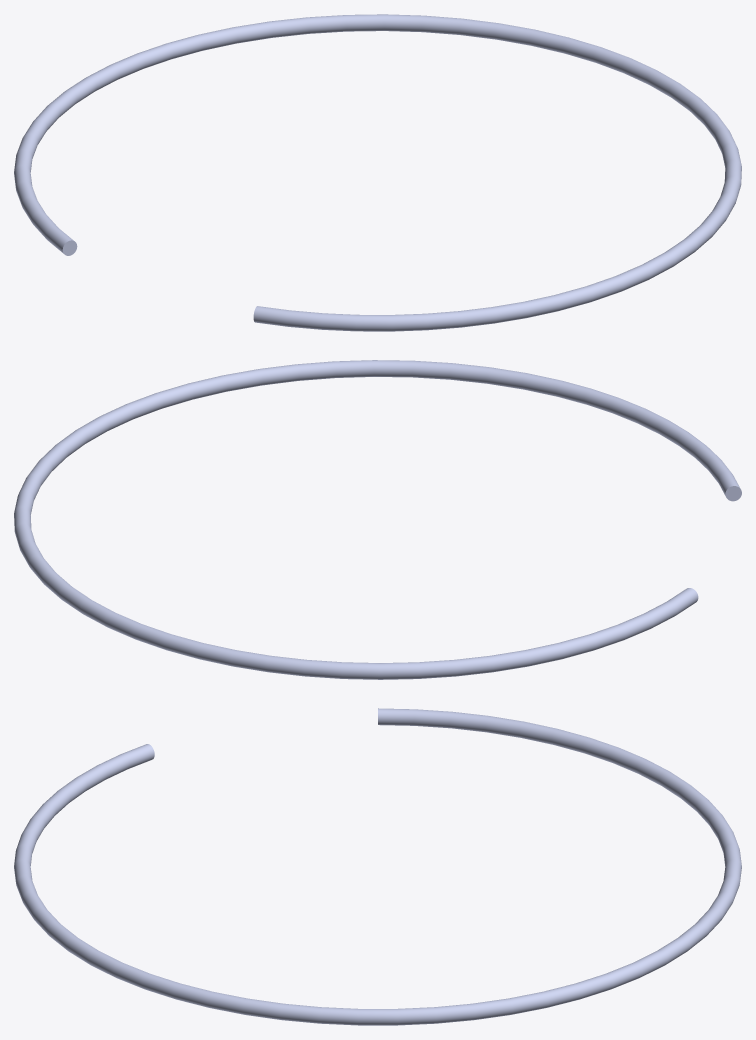
File: Mirror3_1_.obj
3 views of the same model, one above another, from view 1: azimuth 30°, elevation 25°; view 2: azimuth 150°, elevation 25°; view 3: azimuth 270°, elevation 25° (orthographic).
Parts seen in each view (by area): view 1: mesh1308, mesh1306, mesh1310, mesh1309, mesh1311, mesh1307; view 2: mesh1308, mesh1306, mesh1309, mesh1310, mesh1307, mesh1311; view 3: mesh1308, mesh1306, mesh1309, mesh1310, mesh1307.
Part boxes in pixels (<box>): mesh1308: <box>199,14,741,305</box>; mesh1306: <box>14,34,204,249</box>; mesh1310: <box>253,295,559,326</box>; mesh1309: <box>203,26,740,310</box>; mesh1311: <box>253,306,559,331</box>; mesh1307: <box>15,46,204,253</box>; mesh1308: <box>14,360,560,653</box>; mesh1306: <box>197,588,698,674</box>; mesh1309: <box>15,372,556,658</box>; mesh1310: <box>555,380,739,493</box>; mesh1307: <box>197,598,698,679</box>; mesh1311: <box>555,392,725,495</box>; mesh1308: <box>14,859,741,1020</box>; mesh1306: <box>378,708,741,865</box>; mesh1309: <box>14,868,741,1025</box>; mesh1310: <box>14,744,154,865</box>; mesh1307: <box>378,720,724,863</box>.
Bounding box in the file's own units: 0.0131 × 0.0003 × 0.0131.
